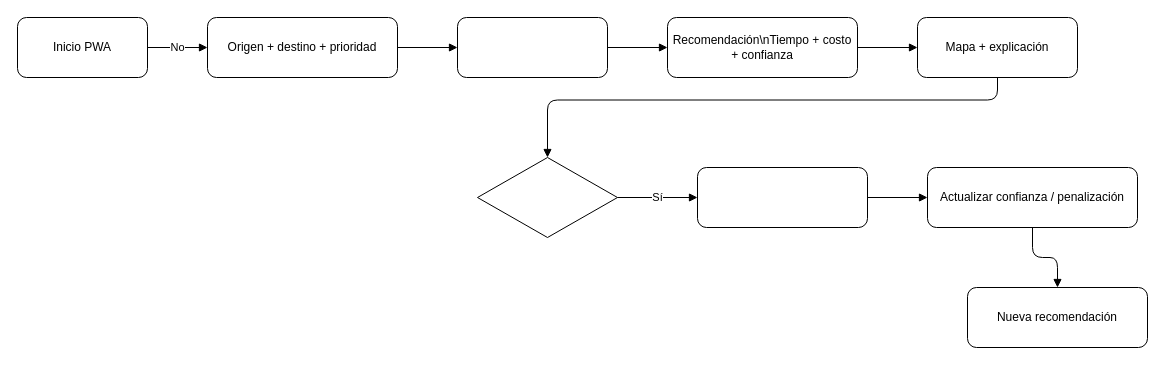
The diagram is 1165 pixels wide and 365 high, and some of its shapes have lost their labels. The shapes that lost their labels are listed below. From the top down, each one's centre as x and y in pixels, then its label:
the point at 532,47: Route Engine
the point at 547,197: ¿Hay incidente?
the point at 782,197: Reportar incidente
